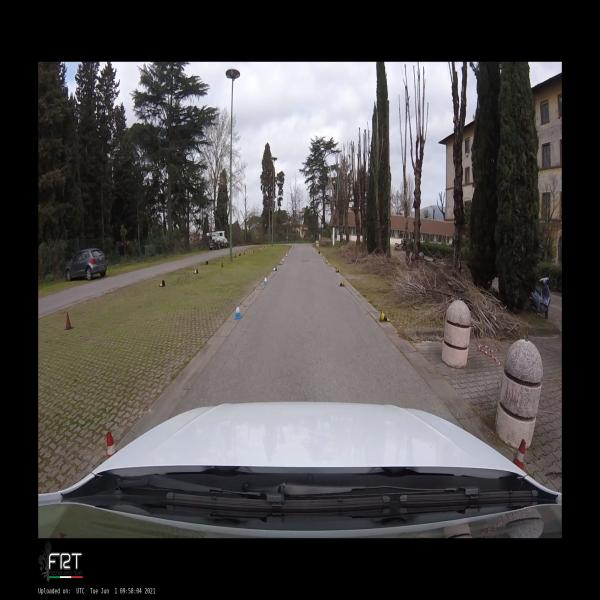blue_cone: (234, 303, 242, 319), (264, 275, 268, 285), (272, 265, 277, 271), (282, 257, 284, 263), (286, 252, 288, 257)
orange_cone: (512, 439, 526, 469), (107, 433, 118, 458), (159, 280, 165, 287), (194, 268, 198, 274)
unknown_cone: (64, 312, 73, 330), (221, 261, 224, 267), (205, 261, 209, 265), (238, 253, 240, 256), (244, 252, 246, 255), (235, 252, 236, 258), (319, 252, 320, 254)
yellow_cone: (380, 310, 390, 322), (338, 281, 344, 286), (335, 268, 340, 272), (326, 260, 328, 265)
